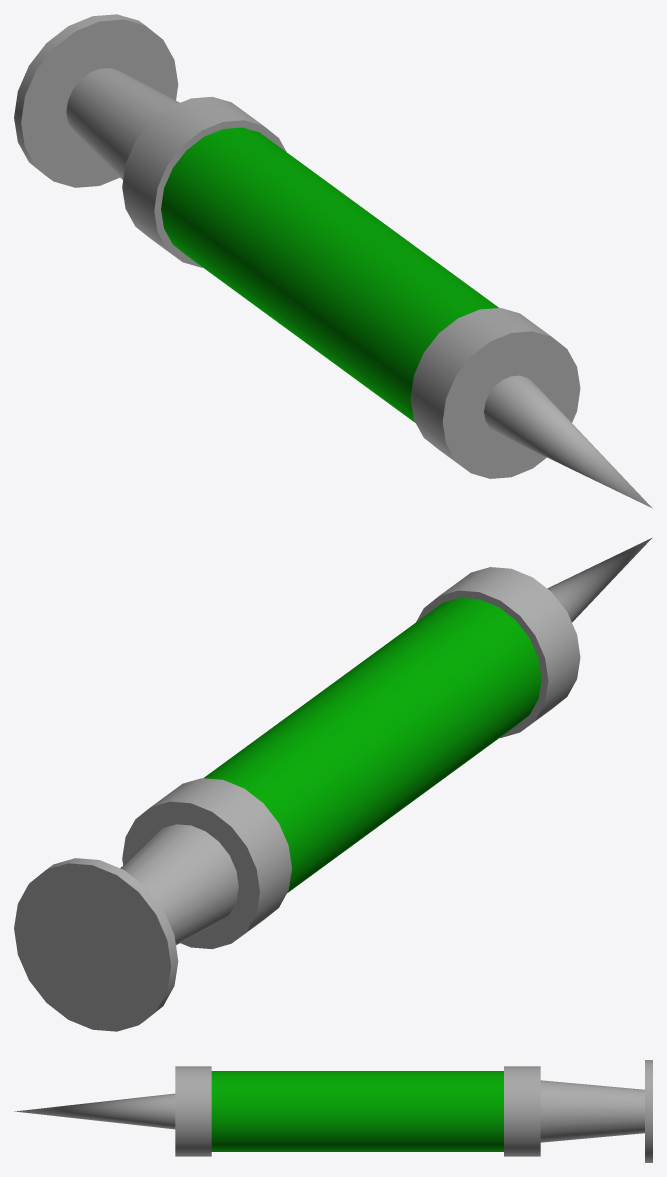
The model's file is Syringe.fbx.
The picture shows the model from 3 angles, top to bottom: view 1: azimuth 30°, elevation 25°; view 2: azimuth 150°, elevation 25°; view 3: azimuth 270°, elevation 25°; orthographic projection. The views are drawn at different scales.
Visible parts, largest first — view 1: Syringe; view 2: Syringe; view 3: Syringe.
Boxes of the visible parts, x1=… form: Syringe: x1=14, y1=14, x2=652, y2=508; Syringe: x1=14, y1=537, x2=652, y2=1031; Syringe: x1=14, y1=1060, x2=652, y2=1162.
Bounding box in the file's own units: 0.000668 × 0.000668 × 0.00412.
